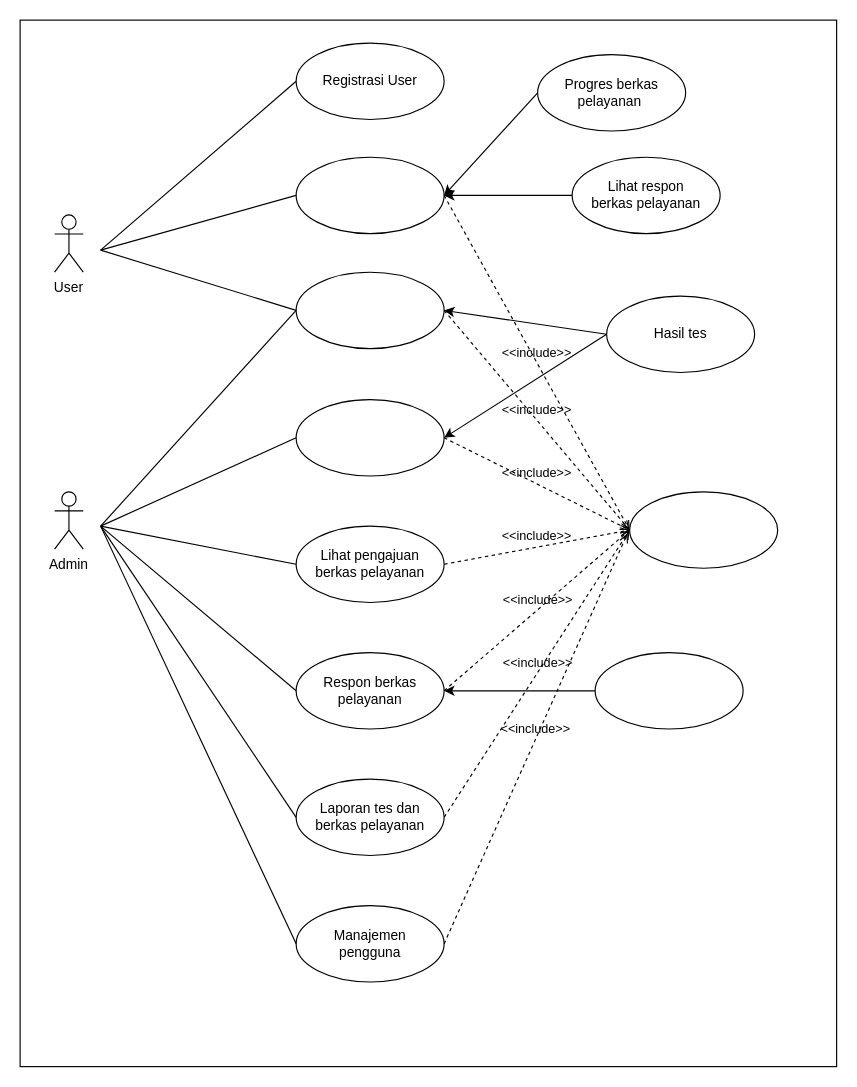
This 857x1087 diagram has some shape labels left out. Each missing label, with the centre of its shape:
"Hasil berkas pelayanan" belongs at (x=668, y=690).
"Login" belongs at (x=703, y=529).
"Melakukan tes" belongs at (x=369, y=310).
"Pengajuan berkas pelayanan" belongs at (x=369, y=195).
"Riwayat tes" belongs at (x=369, y=437).
